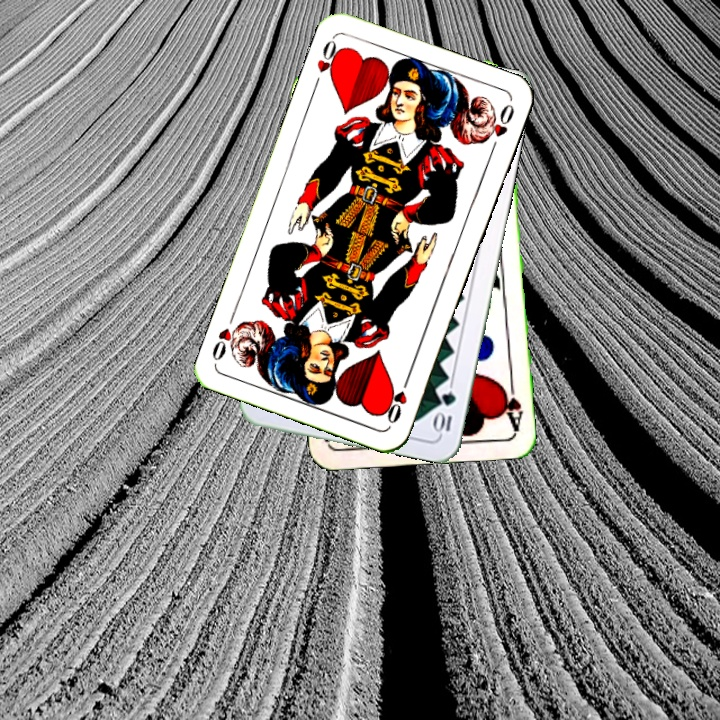G10: (431, 387, 459, 437)
HA: (497, 373, 526, 432)
HO: (309, 34, 346, 91), (382, 370, 413, 427)
